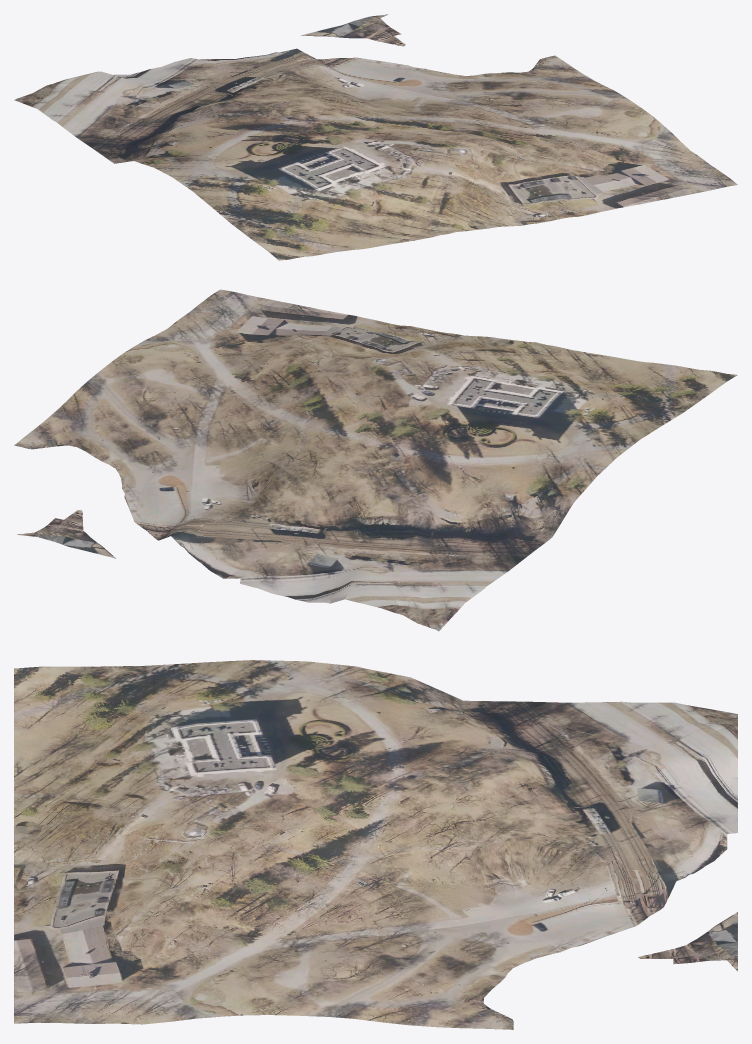
Rendered from CM_Terrain_24486773_6821636.fbx.
3 renders of one model, top to bottom at view 1: azimuth 30°, elevation 25°; view 2: azimuth 150°, elevation 25°; view 3: azimuth 270°, elevation 25°, orthographic. The views are drawn at different scales.
Parts seen in each view (by area): view 1: CM_Terrain_24486773_6821636_LOD0; view 2: CM_Terrain_24486773_6821636_LOD0; view 3: CM_Terrain_24486773_6821636_LOD0.
Part boxes in pixels (x1=…): CM_Terrain_24486773_6821636_LOD0: x1=14, y1=14, x2=737, y2=260; CM_Terrain_24486773_6821636_LOD0: x1=14, y1=289, x2=737, y2=631; CM_Terrain_24486773_6821636_LOD0: x1=14, y1=660, x2=737, y2=1029.
Size of what is drawn, in the model's own units: 205 by 19.95 by 205.
